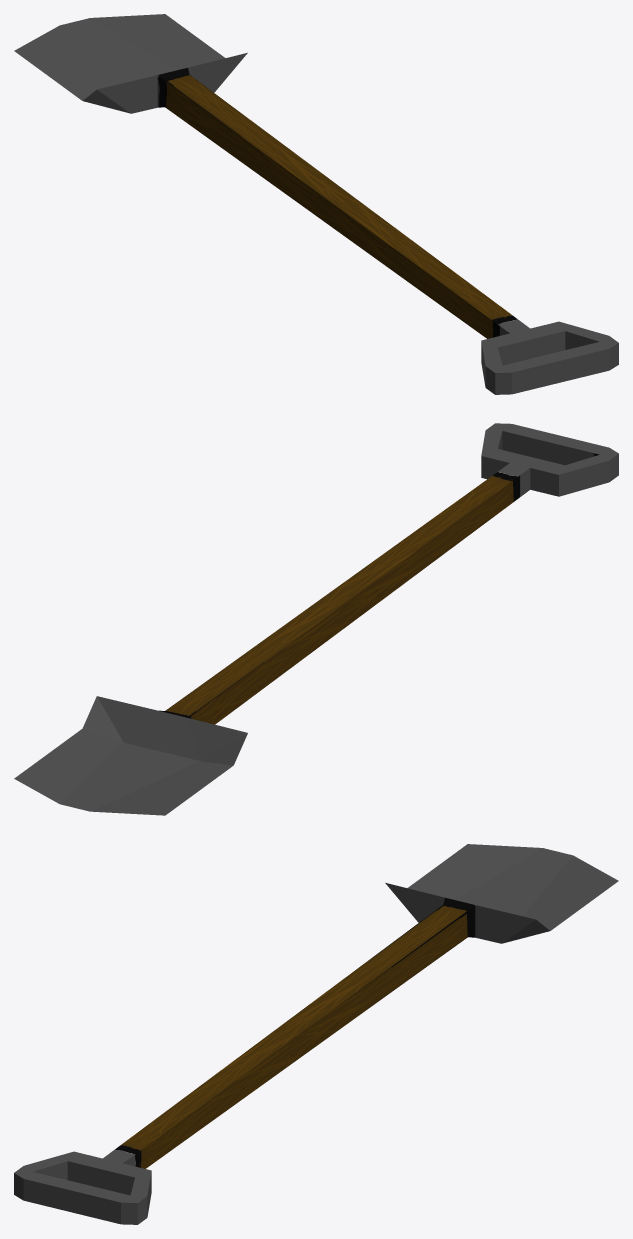
Rendered from Shovel.fbx.
The picture shows the model from 3 angles, top to bottom: view 1: azimuth 30°, elevation 25°; view 2: azimuth 150°, elevation 25°; view 3: azimuth 330°, elevation 25°; orthographic projection.
Visible parts, largest first — view 1: Cube; view 2: Cube; view 3: Cube.
Part boxes in pixels (x1,y1,x2,y2): Cube: (14, 14, 618, 394); Cube: (14, 423, 618, 815); Cube: (14, 844, 618, 1224).
Bounding box in the file's own units: 147 × 36.28 × 819.
